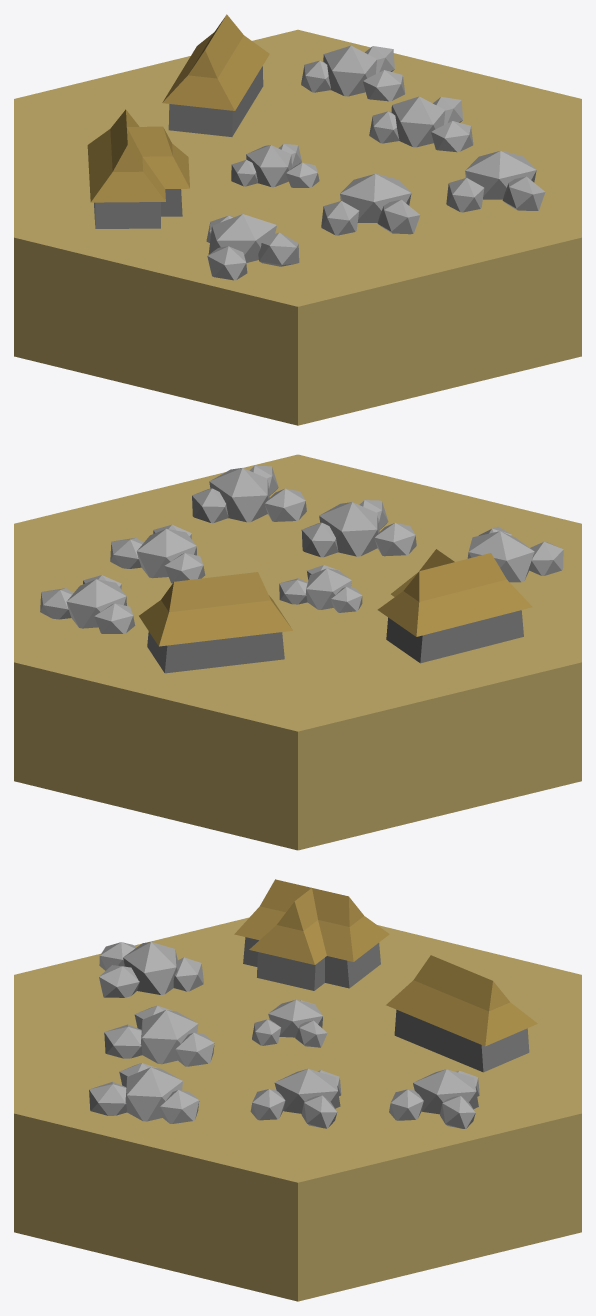
File: Casas_Arido_Rocoso_2.fbx
3 renders of one model, top to bottom at view 1: azimuth 30°, elevation 25°; view 2: azimuth 150°, elevation 25°; view 3: azimuth 270°, elevation 25°, orthographic.
Visible parts, largest first — view 1: Casas_Rocoso_7; view 2: Casas_Rocoso_7; view 3: Casas_Rocoso_7.
Part boxes in pixels (x1,y1,x2,y2): Casas_Rocoso_7: (14, 14, 581, 425); Casas_Rocoso_7: (14, 454, 581, 850); Casas_Rocoso_7: (14, 879, 581, 1301).
Size of the model in its own units: 200 by 65.63 by 173.
